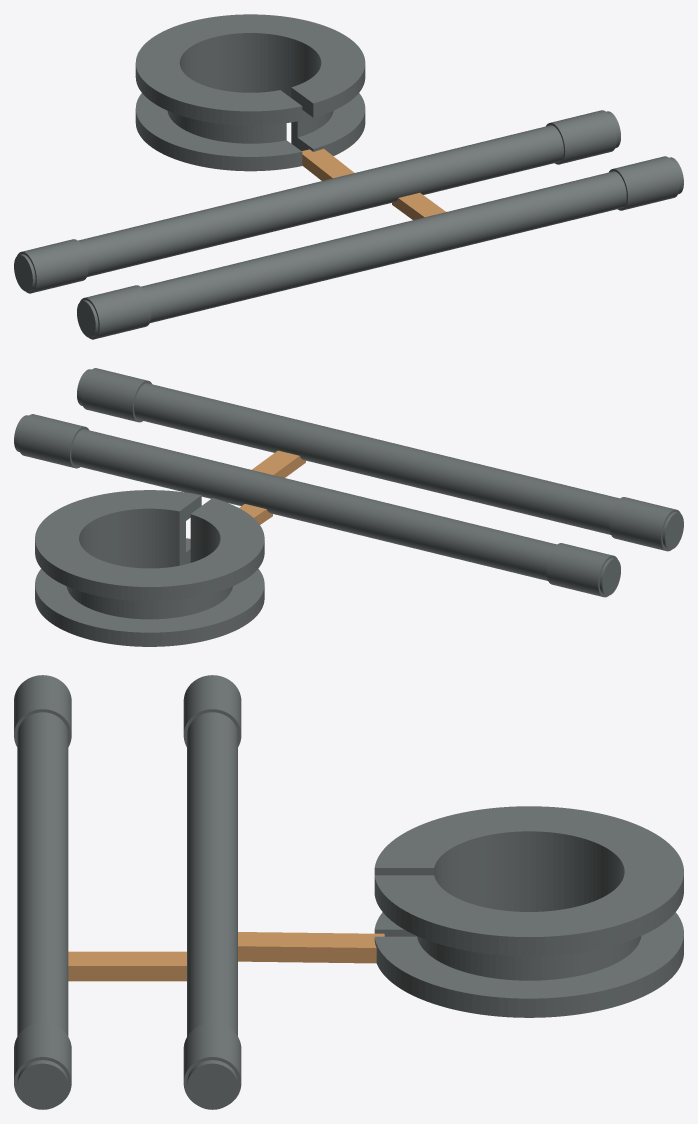
Rendered from F_TPU95A_CONNECTED_3parts.glb.
3 renders of one model, top to bottom at view 1: azimuth 30°, elevation 25°; view 2: azimuth 150°, elevation 25°; view 3: azimuth 270°, elevation 25°, orthographic. The views are drawn at different scales.
Parts seen in each view (by area): view 1: 02_cable_grommet, 00_antenna_rods_01, 01_antenna_rods_02, TAB_01, TAB_00; view 2: 02_cable_grommet, 00_antenna_rods_01, 01_antenna_rods_02, TAB_00; view 3: 02_cable_grommet, 00_antenna_rods_01, 01_antenna_rods_02, TAB_01, TAB_00.
Part boxes in pixels (box(x1,y1,x2,y2)): 02_cable_grommet: box(135, 14, 365, 171); 00_antenna_rods_01: box(77, 156, 683, 339); 01_antenna_rods_02: box(14, 110, 620, 293); TAB_01: box(302, 148, 354, 180); TAB_00: box(392, 192, 445, 219); 02_cable_grommet: box(35, 490, 264, 646); 00_antenna_rods_01: box(77, 368, 683, 551); 01_antenna_rods_02: box(14, 414, 620, 597); TAB_00: box(252, 450, 305, 477); 02_cable_grommet: box(374, 806, 683, 1017); 00_antenna_rods_01: box(14, 675, 71, 1109); 01_antenna_rods_02: box(183, 675, 241, 1109); TAB_01: box(238, 932, 384, 963); TAB_00: box(68, 951, 186, 981).
Size of the model in its own units: 0.0432 by 0.0042 by 0.0316.
